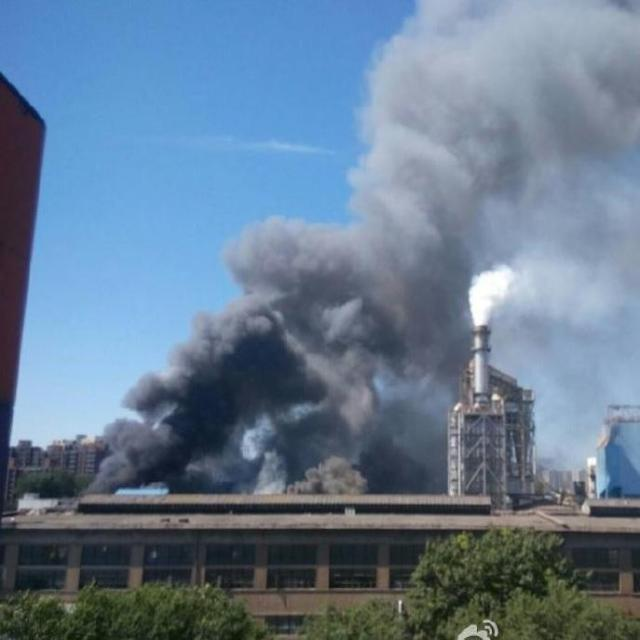Smoke: (81, 1, 640, 496)
